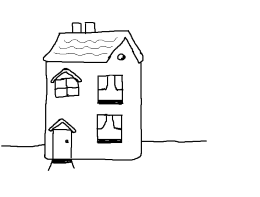chimney: (68, 17, 84, 38), (84, 20, 99, 37)
door: (47, 118, 76, 160)
open_window: (94, 111, 125, 146), (95, 73, 125, 106)
roof: (40, 30, 147, 66)
wall: (41, 57, 146, 162)
